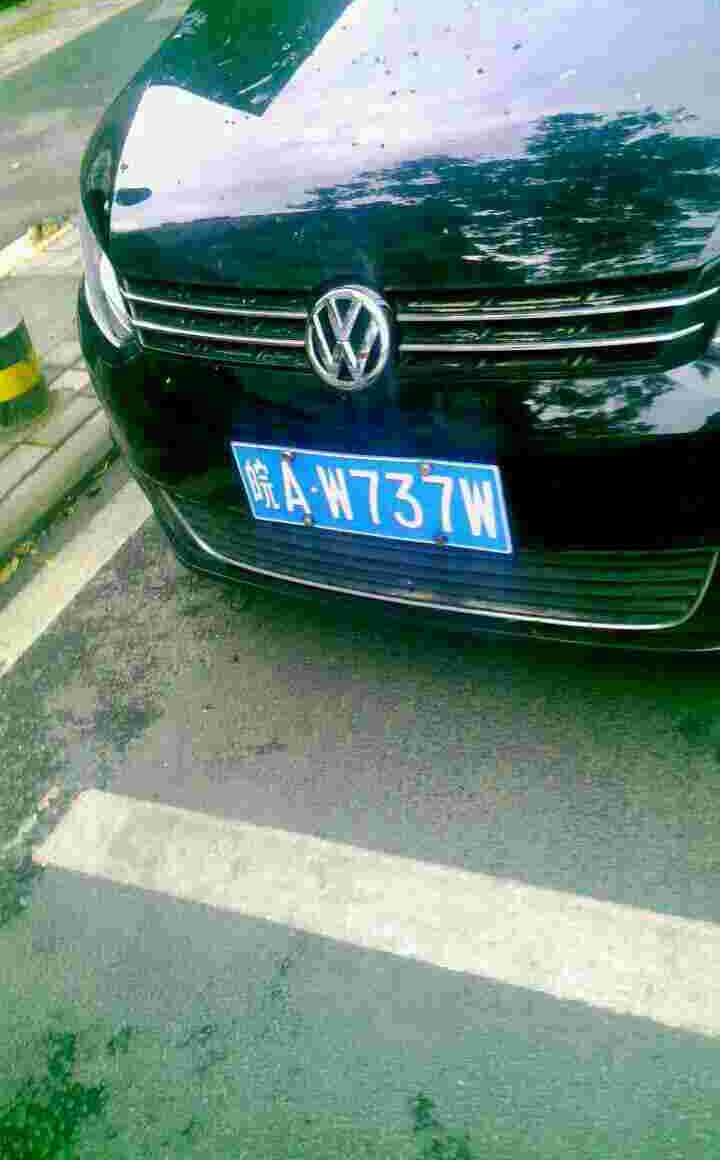license_plate: (243, 439, 500, 557)
